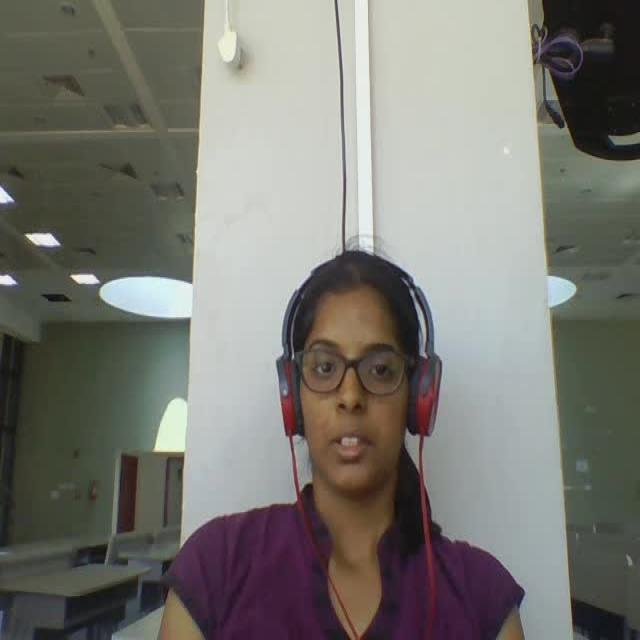Engaged: (256, 246, 445, 522)
